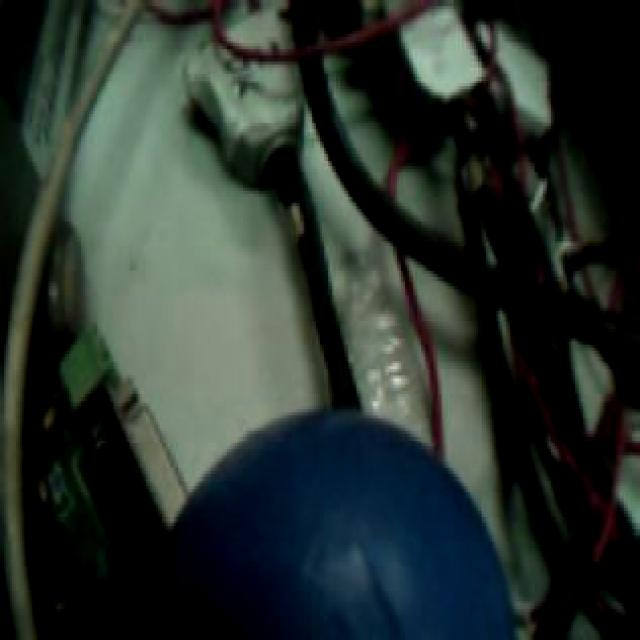BallPurple: (152, 408, 516, 640)
